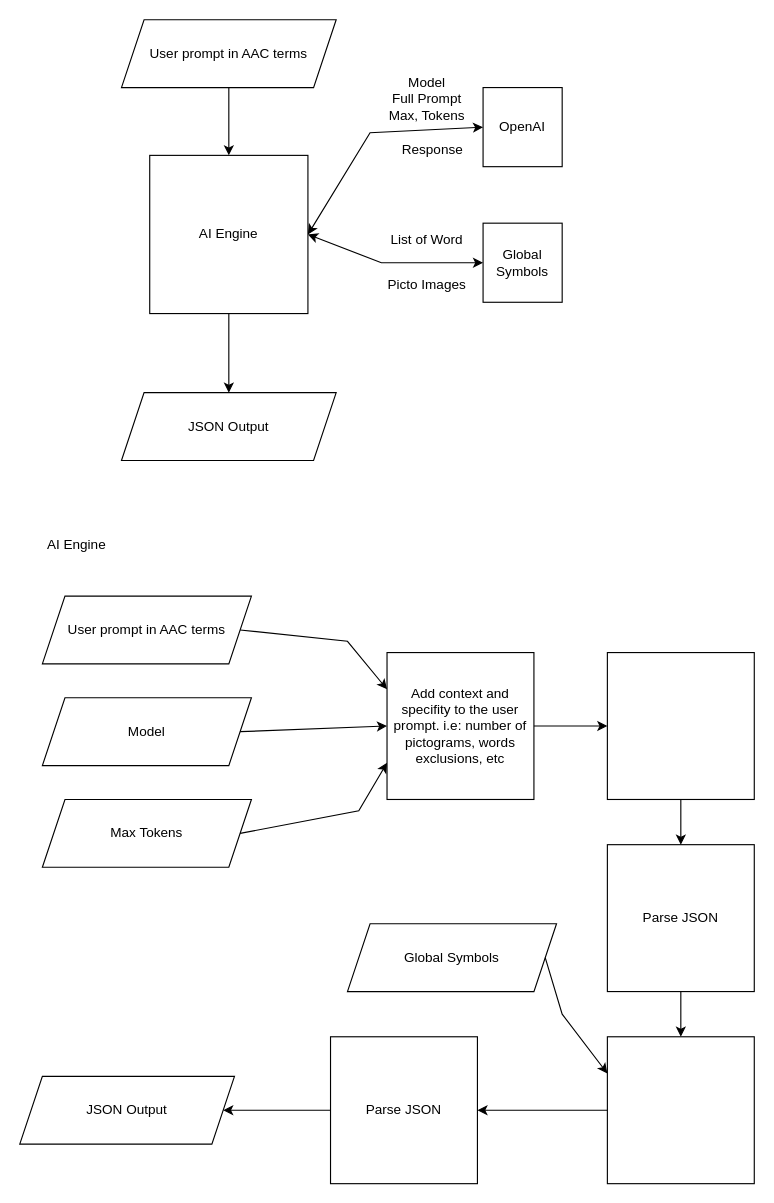
This 774x1203 diagram has some shape labels left out. Here are the shapes that lost their labels. From the top down, the box of each, then its label:
(606, 651, 754, 799): Error handling
(606, 1036, 754, 1184): Fetch Pictograms
